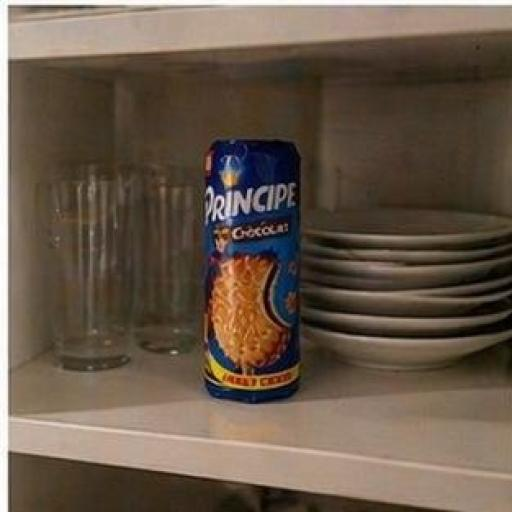prince: (147, 91, 362, 451)
